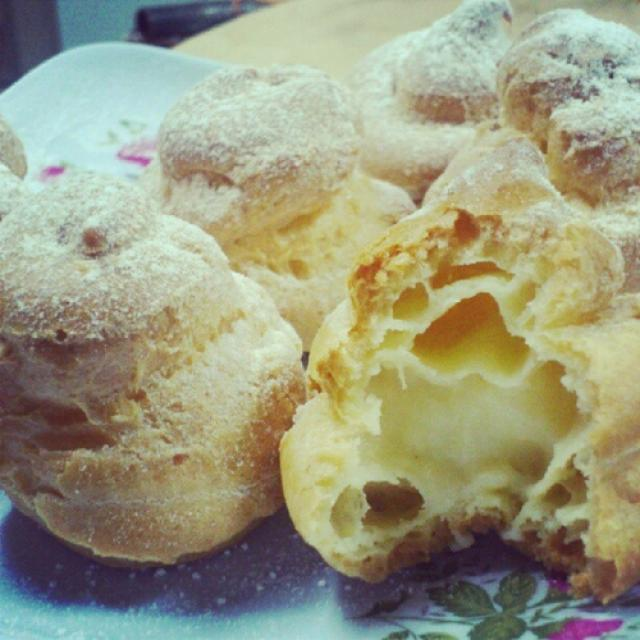炸货点心: (5, 16, 634, 604)
蛋糕甜品: (5, 16, 634, 604)
